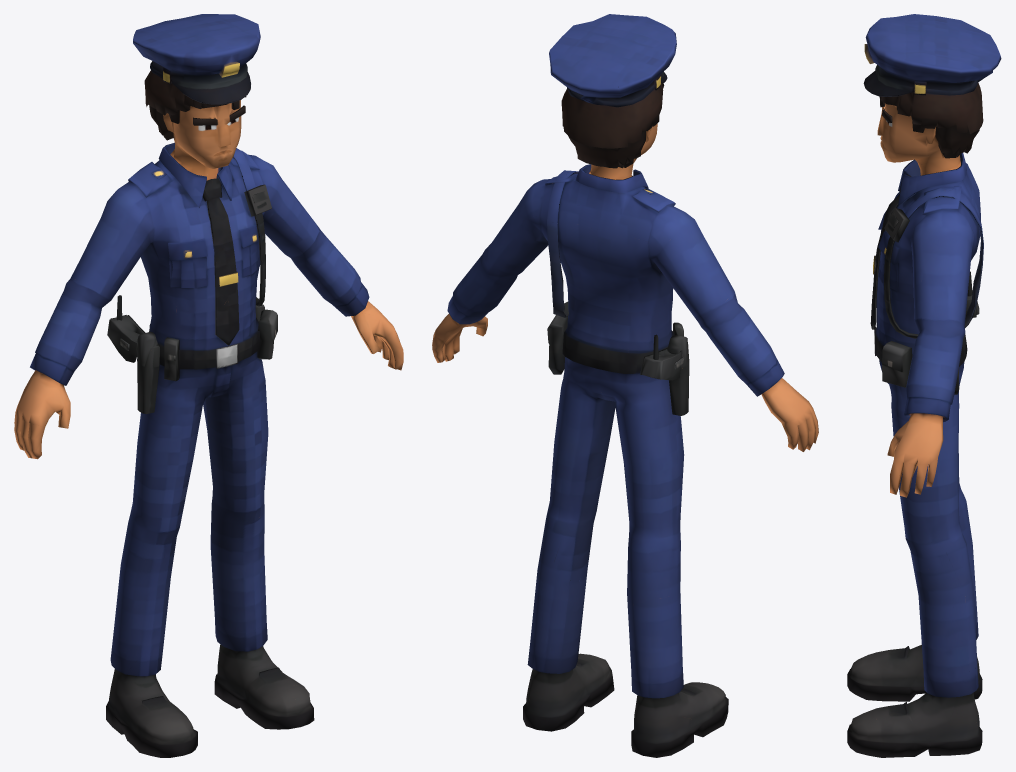
Rendered from police_cap.glb.
3 renders of one model, left to right at view 1: azimuth 30°, elevation 25°; view 2: azimuth 150°, elevation 25°; view 3: azimuth 270°, elevation 25°, orthographic.
Parts seen in each view (by area): view 1: geometry_0; view 2: geometry_0; view 3: geometry_0.
Boxes of the visible parts, bbox=[...] form: geometry_0: bbox=[14, 14, 403, 757]; geometry_0: bbox=[432, 14, 818, 757]; geometry_0: bbox=[847, 14, 1001, 757].
Bounding box in the file's own units: 0.5454 × 0.9517 × 0.1938.
1 material, 1 textured.
